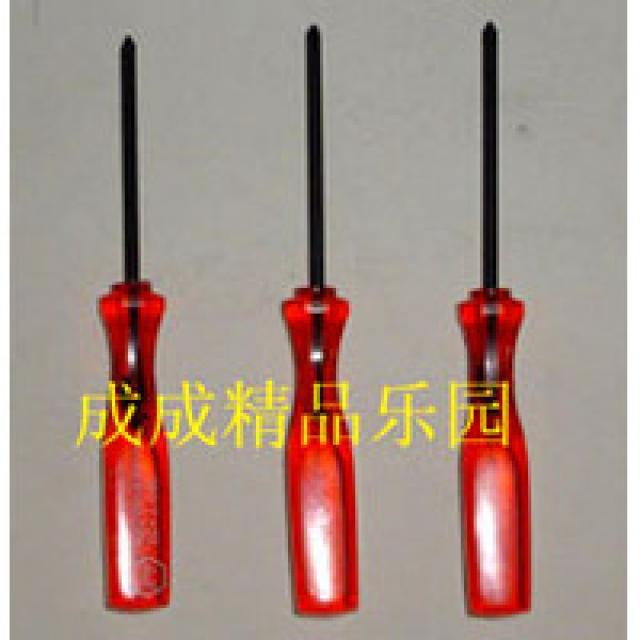screwdriver: (76, 22, 190, 620), (278, 7, 368, 625), (454, 9, 542, 623)
